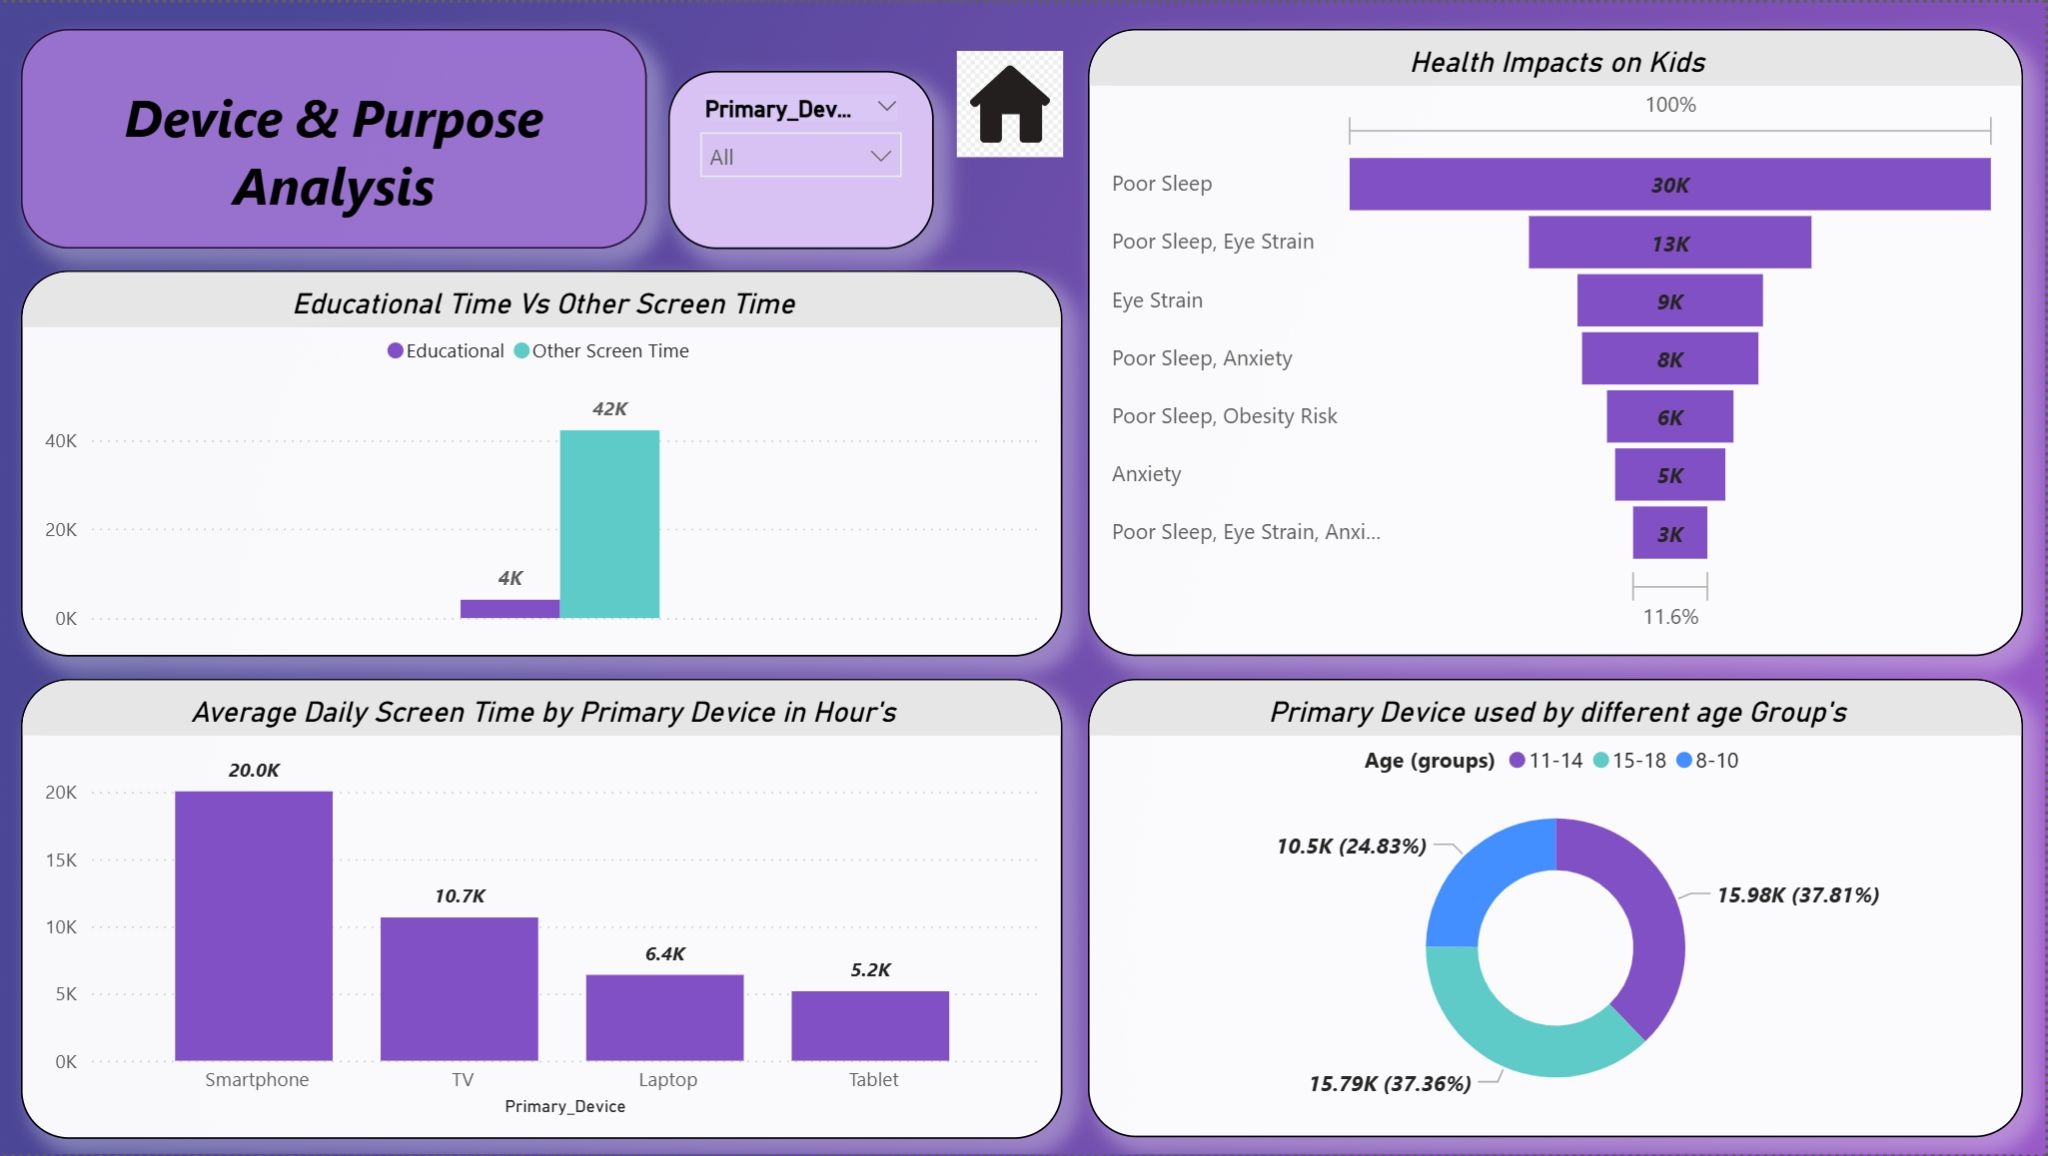

Layout of this report page (visuals, bound fields, positions):
{"tool":"powerbi","page":{"name":"Device & Purpose Analysis","canvas":[1280,720],"ordinal":2},"visuals":[{"type":"columnChart","title":"Average Daily Screen Time by Primary Device in Hour''s","fields":{"Y":["Sum(Indian_Kids_Screen_Time.Avg_Daily_Screen_Time_hr)"],"Category":["Indian_Kids_Screen_Time.Primary_Device"]},"box":[14,422,651.5,288.1],"z":0},{"type":"funnel","title":" Health Impacts on Kids","fields":{"Category":["Indian_Kids_Screen_Time.Health_Impacts"],"Y":["Sum(Indian_Kids_Screen_Time.Age)"]},"box":[681.3,16.8,584.9,392],"z":1000},{"type":"clusteredColumnChart","title":"Educational Time Vs Other Screen Time","fields":{"Y":["Sum(Indian_Kids_Screen_Time.Educational_to_Recreational_Ratio)","Sum(Indian_Kids_Screen_Time.Avg_Daily_Screen_Time_hr)"]},"box":[14,167,651.5,241],"z":2000},{"type":"pieChart","title":"Primary Device used by different age Group''s","fields":{"Category":["Indian_Kids_Screen_Time.Age (groups)"],"Y":["Sum(Indian_Kids_Screen_Time.Avg_Daily_Screen_Time_hr)"]},"box":[680.8,422,585.2,286.9],"z":3000},{"type":"slicer","fields":{"Values":["Indian_Kids_Screen_Time.Primary_Device"]},"box":[419.3,42.6,165.9,111.7],"z":4000},{"type":"textbox","box":[14,16.6,391.4,137.7],"z":5000},{"type":"image","box":[591.6,25.5,82.9,76.5],"z":6000}]}

Visuals, with their boxes in screenshot pixels (x1, y1, x2, y2), scaled from the page's 1280x720 canvas onto the 2048x1156 screenshot:
"Average Daily Screen Time by Primary Device in Hour''s" columnChart: box=[22, 678, 1065, 1140]
" Health Impacts on Kids" funnel: box=[1090, 27, 2026, 656]
"Educational Time Vs Other Screen Time" clusteredColumnChart: box=[22, 268, 1065, 655]
"Primary Device used by different age Group''s" pieChart: box=[1089, 678, 2026, 1138]
slicer - Indian_Kids_Screen_Time.Primary_Device: box=[671, 68, 936, 248]
textbox: box=[22, 27, 649, 248]
image: box=[947, 41, 1079, 164]
